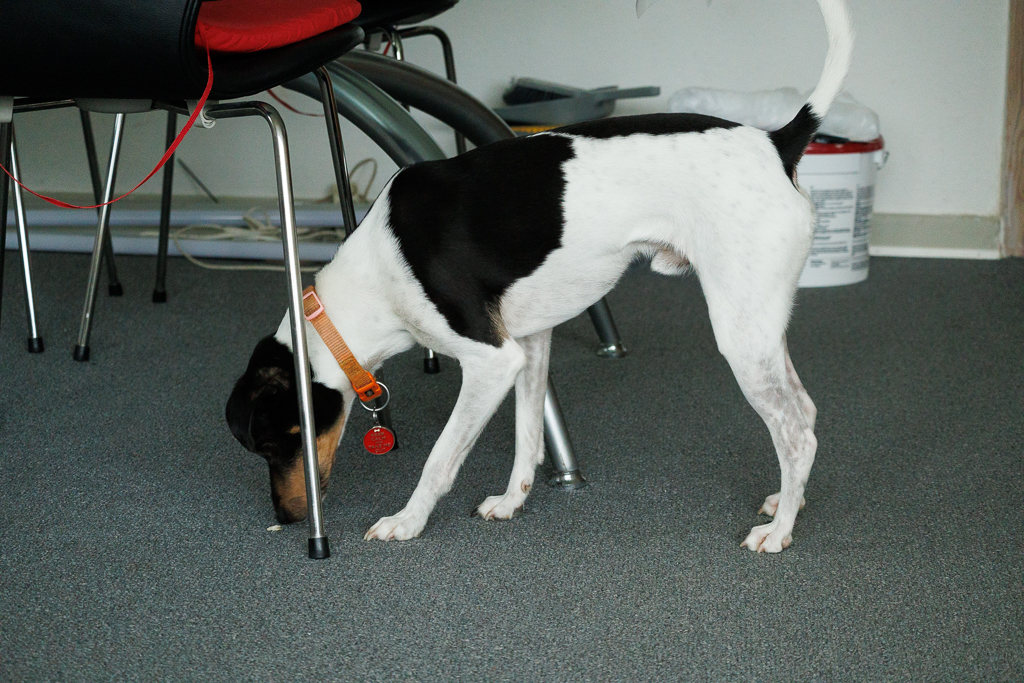Dog: (218, 0, 869, 563)
